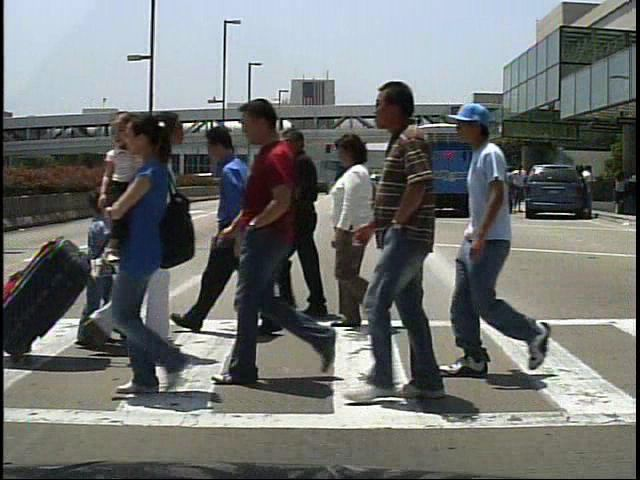person: (356, 84, 488, 423), (235, 93, 325, 386), (458, 102, 542, 380), (183, 123, 279, 346), (306, 135, 397, 333), (269, 130, 342, 322), (102, 116, 157, 361), (77, 193, 125, 335), (139, 113, 143, 374), (582, 166, 602, 218), (509, 165, 529, 215), (497, 166, 515, 218)
